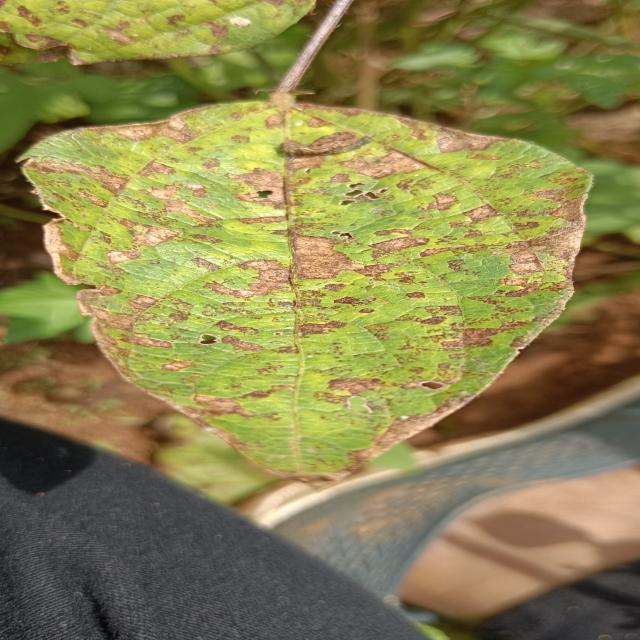Black gram_leaf spot: (21, 94, 593, 482)
